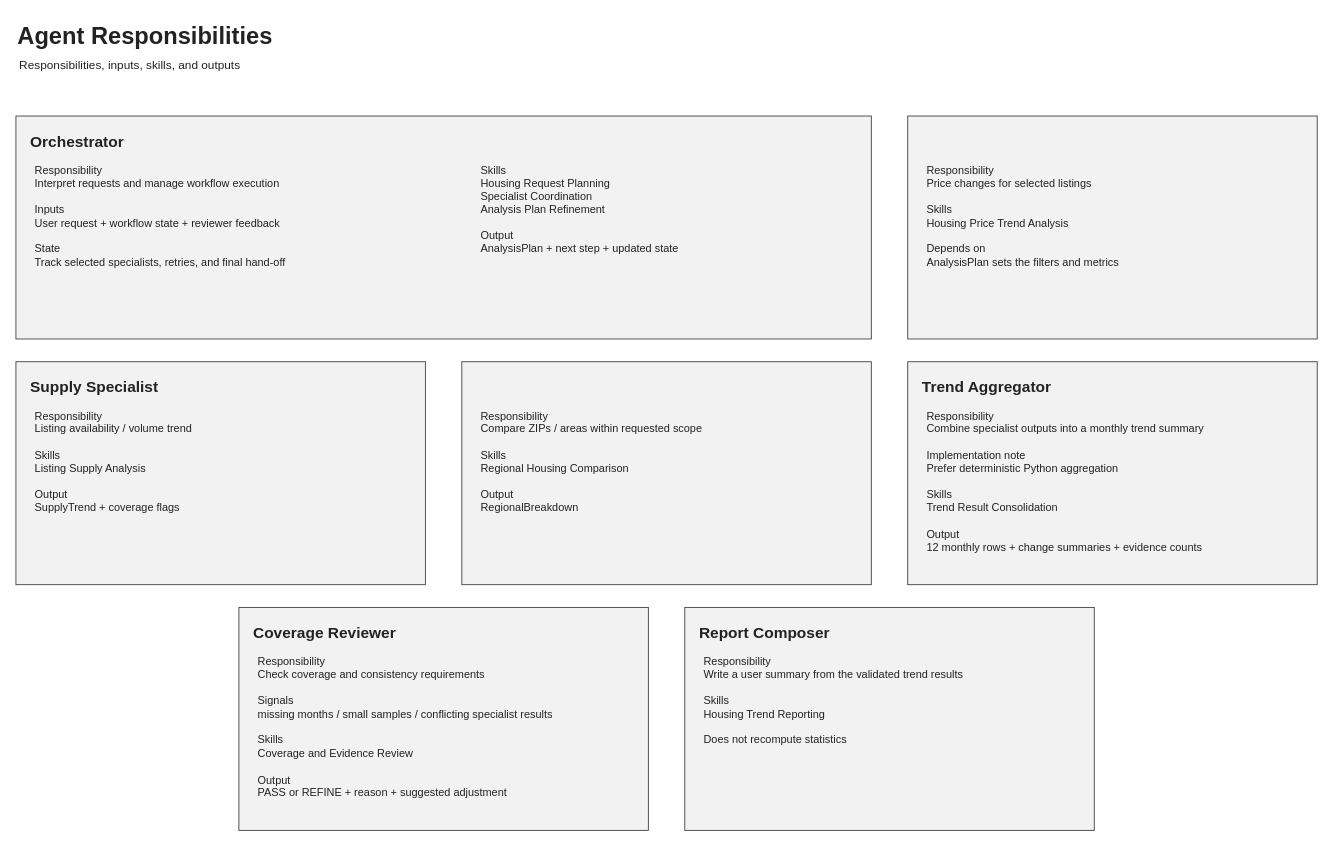
Image size: 1333x846. Some labels were removed from this diagram. Each missing label, with the box of its shape:
Price Specialist: (907, 115, 1317, 339)
Region Specialist: (461, 361, 871, 585)
